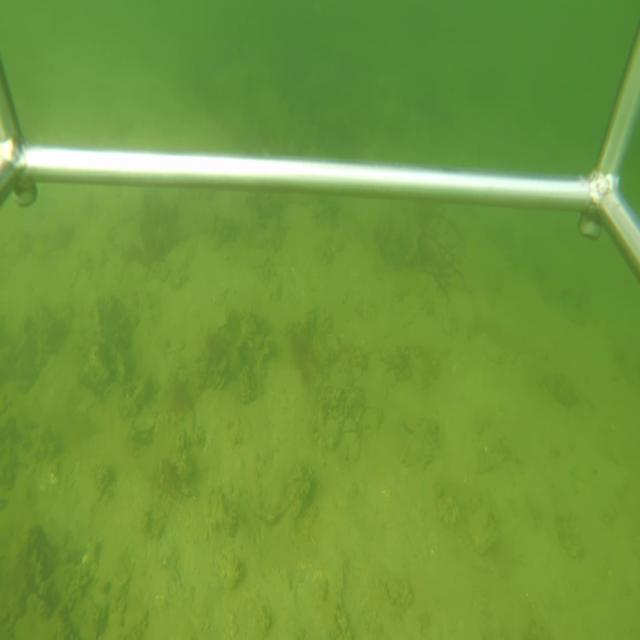Oyster-Indeterminate: (258, 444, 310, 530)
